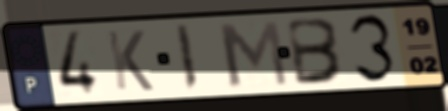3: (343, 12, 397, 85)
4: (55, 28, 102, 100)
B: (285, 16, 348, 89)
I: (172, 22, 201, 94)
K: (104, 28, 157, 93)
M: (213, 18, 292, 89)
